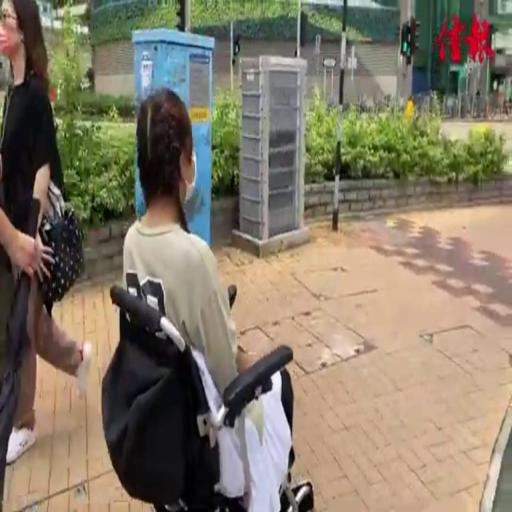cadeira_de_rodas: (89, 84, 332, 512)
pessoa: (0, 0, 92, 470)
